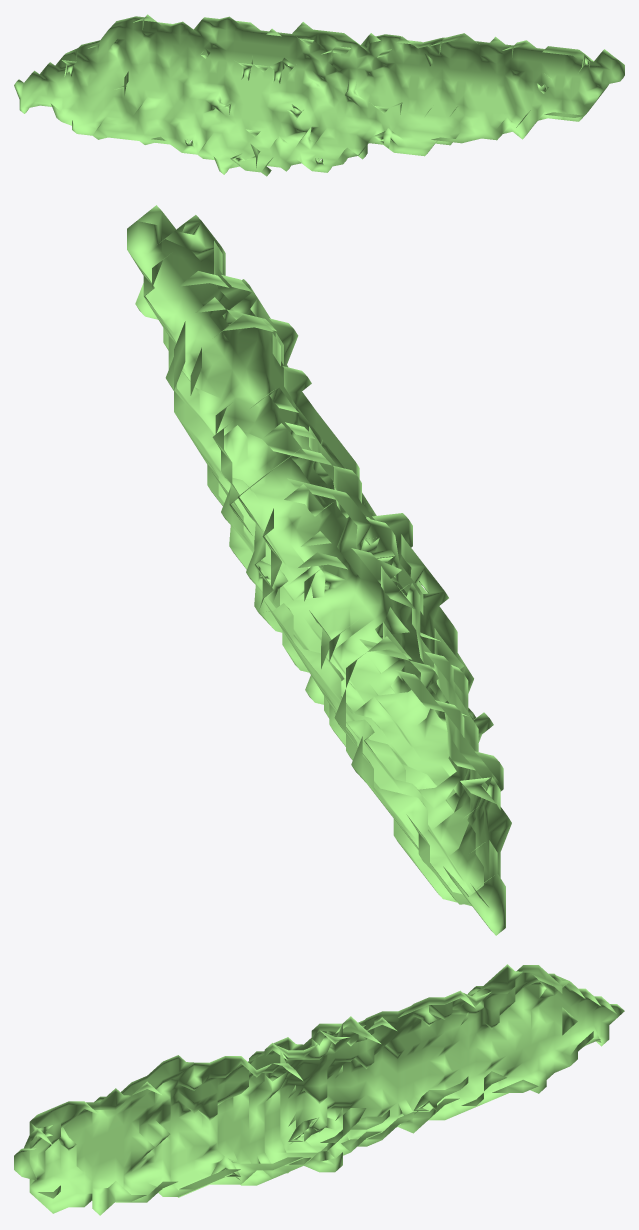
File: osteocyte_144.glb
3 views of the same model, one above another, from view 1: azimuth 30°, elevation 25°; view 2: azimuth 150°, elevation 25°; view 3: azimuth 270°, elevation 25° (orthographic). The views are drawn at different scales.
Parts seen in each view (by area): view 1: osteocyte_144; view 2: osteocyte_144; view 3: osteocyte_144.
Boxes of the visible parts, x1,y1,x2,y2 form: osteocyte_144: (14, 14, 624, 176); osteocyte_144: (127, 205, 511, 935); osteocyte_144: (14, 964, 624, 1215).
Bounding box in the file's own units: 19.26 × 6.74 × 18.78.
